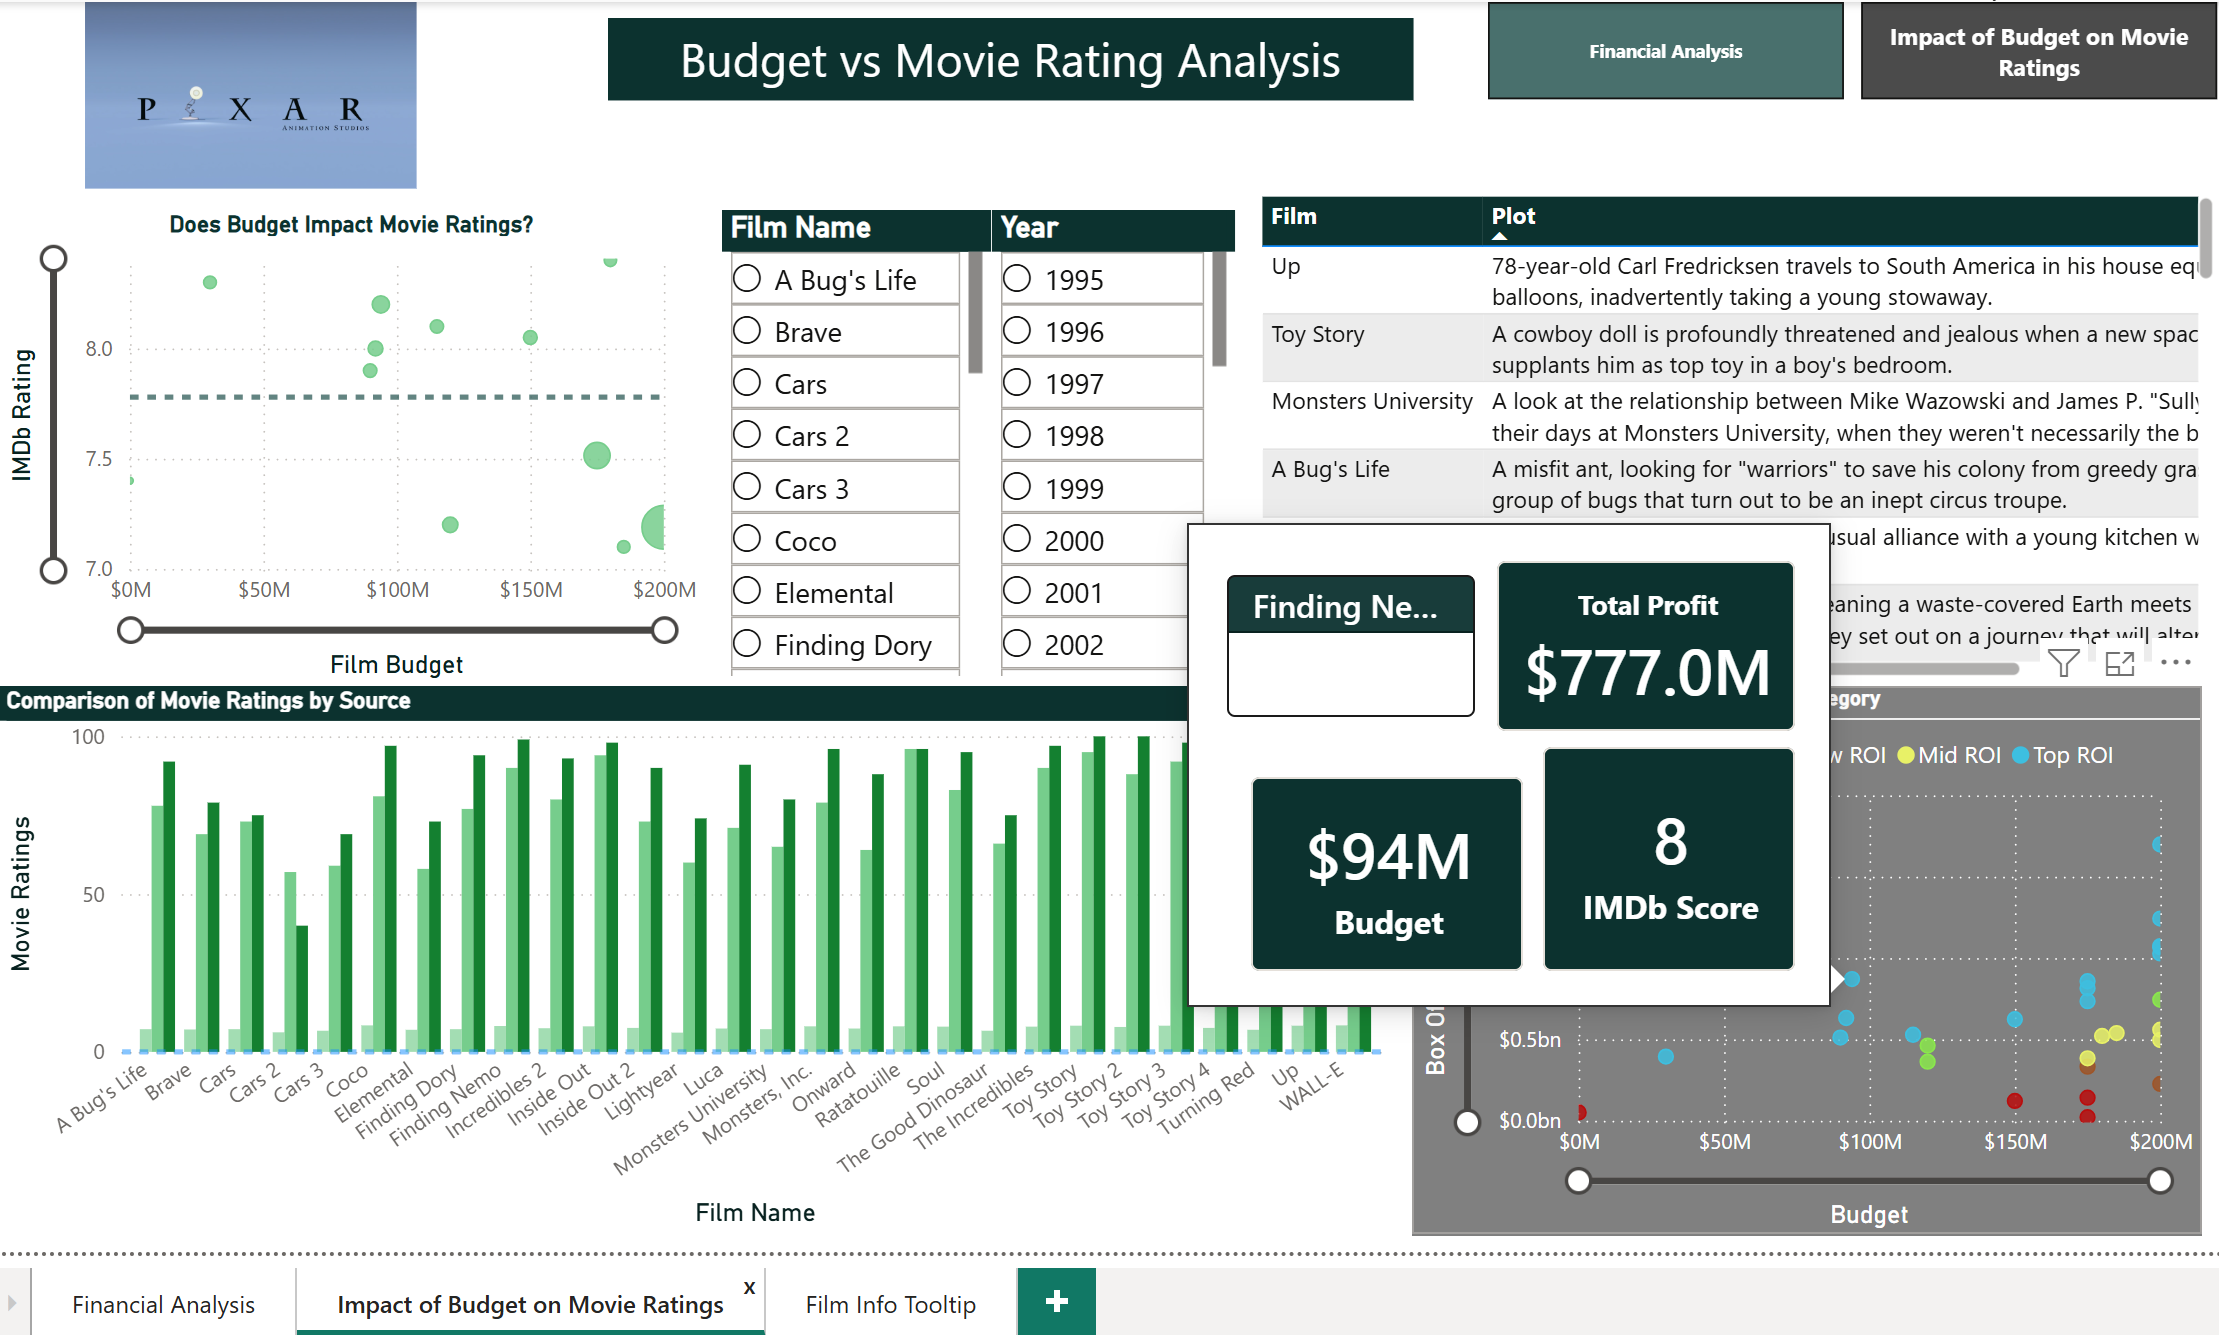

The page's visual inventory and layout, read from the dashboard file:
{"tool":"powerbi","page":{"name":"Impact of Budget on Movie Ratings","canvas":[1280,720],"ordinal":1},"visuals":[{"type":"textbox","box":[351.2,8.8,463.8,47.5],"z":0},{"type":"clusteredColumnChart","title":"Comparison of Movie Ratings by Source","fields":{"Category":["pixar_films.film"],"Y":["Avg(public_response.imdb_score)","Avg(public_response.metacritic_score)","Avg(public_response.rotten_tomatoes_score)"]},"box":[0,393.8,806.2,316.2],"z":1000},{"type":"scatterChart","title":"Does Budget Impact Movie Ratings?","fields":{"Size":["box_office.Profit"],"X":["box_office.Budget"],"Y":["Avg(public_response.imdb_score)"]},"box":[0,120,407.5,273.8],"z":2000},{"type":"listSlicer","fields":{"Values":["box_office.Film Name"]},"box":[417.5,120,155,273.8],"z":3000},{"type":"listSlicer","fields":{"Values":["pixar_films.release_date.Variation.Date Hierarchy.Year"]},"box":[572.5,120,140,273.8],"z":4000},{"type":"pageNavigator","title":"Navigate To:","box":[858.3,0,421.7,56.7],"z":5000},{"type":"tableEx","fields":{"Values":["pixar_films.film","pixar_films.plot"]},"box":[722.5,107.5,558.8,286.2],"z":6000},{"type":"scatterChart","title":"Budget and Box Office Worldwide by ROI Category","fields":{"Category":["box_office.Film Name"],"Series":["box_office.ROI Category"],"X":["Sum(box_office.Budget)"],"Y":["Sum(box_office.Box Office Worldwide)"]},"box":[815,393.8,455,316.2],"z":7000},{"type":"image","box":[42.5,0,206.2,107.5],"z":8000}]}

Visuals, with their boxes on the page's 1280x720 design canvas (x1, y1, x2, y2). These are canvas units, not pixel positions in the 2219x1335 screenshot, which may show the page scaled, cropped or inside an application window:
textbox: {"x1": 351, "y1": 9, "x2": 815, "y2": 56}
"Comparison of Movie Ratings by Source" clusteredColumnChart: {"x1": 0, "y1": 394, "x2": 806, "y2": 710}
"Does Budget Impact Movie Ratings?" scatterChart: {"x1": 0, "y1": 120, "x2": 408, "y2": 394}
listSlicer - box_office.Film Name: {"x1": 418, "y1": 120, "x2": 572, "y2": 394}
listSlicer - pixar_films.release_date.Variation.Date Hierarchy.Year: {"x1": 572, "y1": 120, "x2": 712, "y2": 394}
"Navigate To:" pageNavigator: {"x1": 858, "y1": 0, "x2": 1280, "y2": 57}
tableEx - pixar_films.film x pixar_films.plot: {"x1": 722, "y1": 108, "x2": 1281, "y2": 394}
"Budget and Box Office Worldwide by ROI Category" scatterChart: {"x1": 815, "y1": 394, "x2": 1270, "y2": 710}
image: {"x1": 42, "y1": 0, "x2": 249, "y2": 108}
